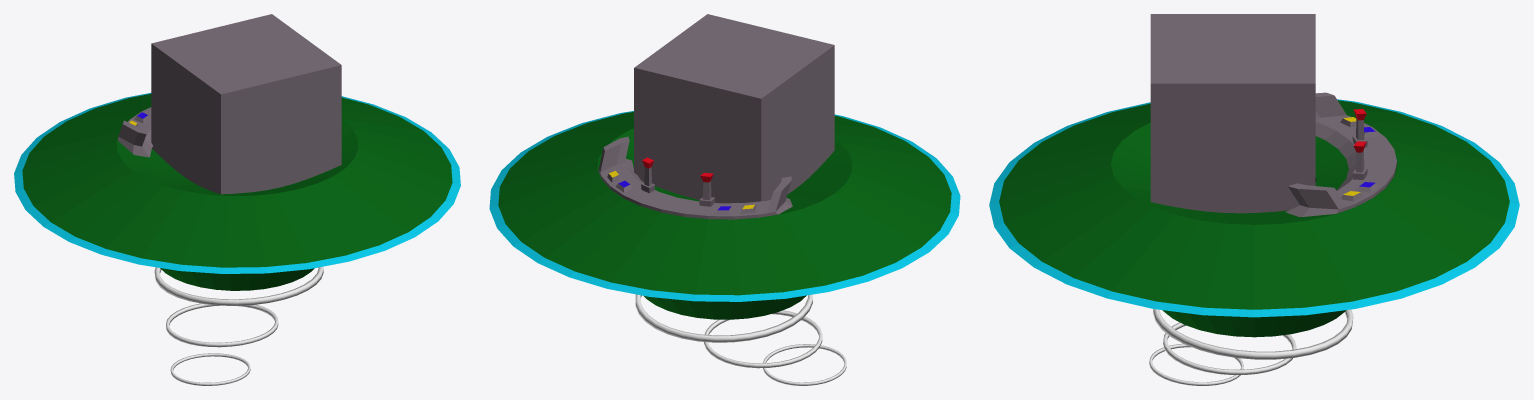
Rendered from UFO_3.fbx.
3 renders of one model, left to right at view 1: azimuth 30°, elevation 25°; view 2: azimuth 150°, elevation 25°; view 3: azimuth 270°, elevation 25°, orthographic. The views are drawn at different scales.
Visible parts, largest first — view 1: Cylinder; view 2: Cylinder; view 3: Cylinder.
Part boxes in pixels (bbox=[...]): Cylinder: bbox=[14, 14, 460, 385]; Cylinder: bbox=[489, 14, 960, 385]; Cylinder: bbox=[989, 14, 1519, 385].
Bounding box in the file's own units: 633 × 460 × 633.
